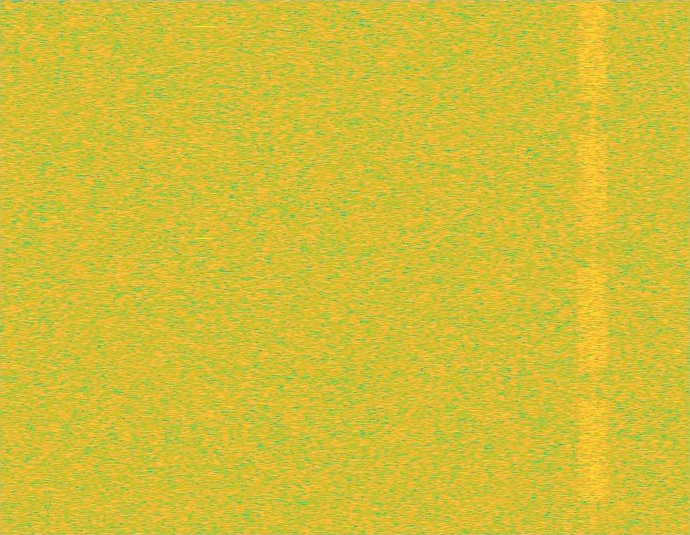5G: (576, 0, 610, 534)
DSSS: (591, 0, 595, 534)
Radar: (198, 0, 211, 534)
